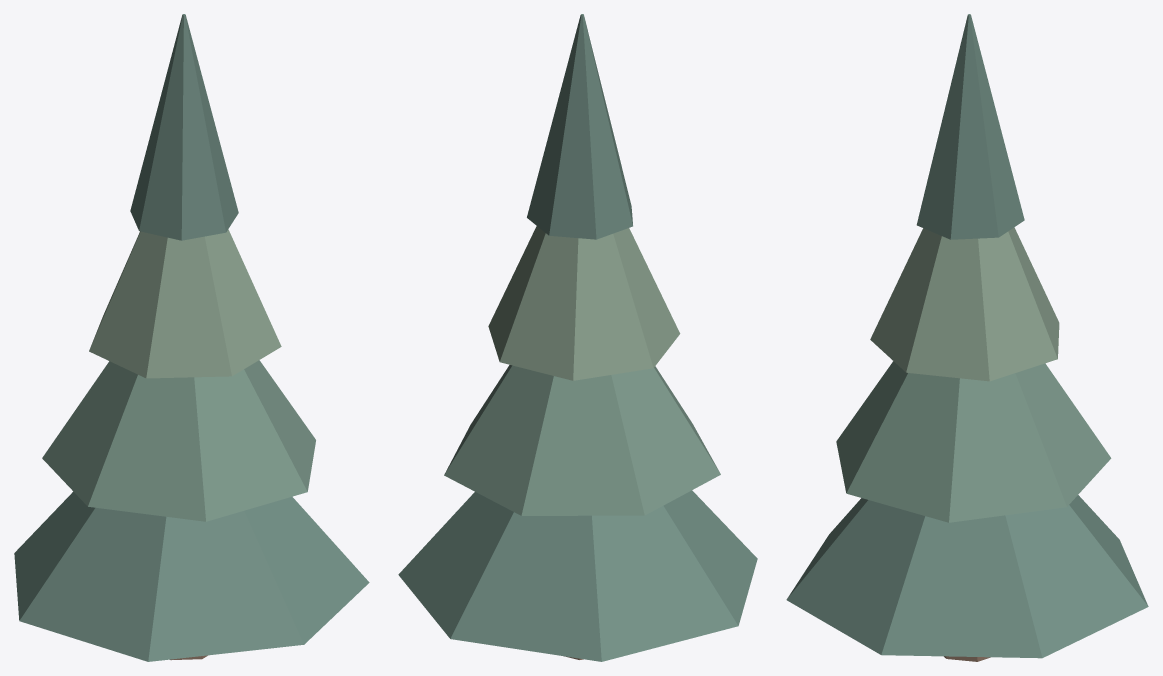
3 views of the same model, side by side, from view 1: azimuth 30°, elevation 25°; view 2: azimuth 150°, elevation 25°; view 3: azimuth 270°, elevation 25° (orthographic).
Visible parts, largest first — view 1: T20; view 2: T20; view 3: T20.
Boxes of the visible parts, x1,y1,x2,y2 form: T20: (14, 14, 369, 661); T20: (398, 14, 757, 661); T20: (786, 14, 1148, 661).
Bounding box in the file's own units: 1.17 × 2.28 × 1.18.
